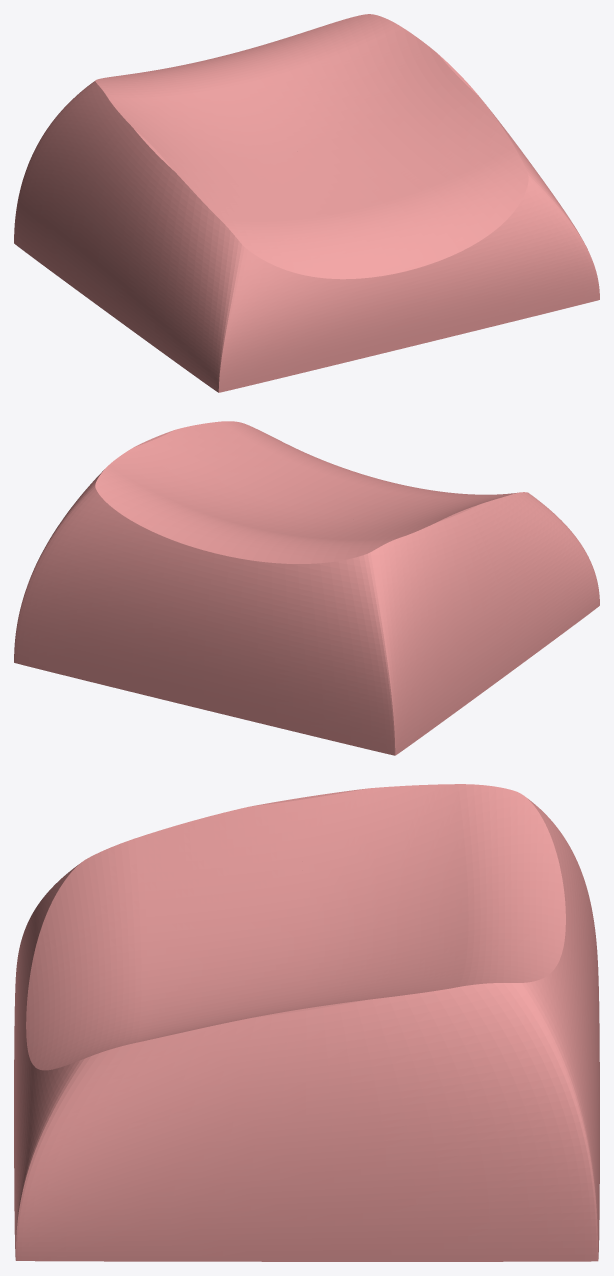
The model's file is MX-Chicago-Steno-R1.gltf.
The picture shows the model from 3 angles, top to bottom: view 1: azimuth 30°, elevation 25°; view 2: azimuth 150°, elevation 25°; view 3: azimuth 270°, elevation 25°; orthographic projection. The views are drawn at different scales.
Parts seen in each view (by area): view 1: object 1; view 2: object 1; view 3: object 1.
Part boxes in pixels (left/top/right/bottom): object 1: left=14, top=14, right=599, bottom=392; object 1: left=14, top=421, right=599, bottom=755; object 1: left=14, top=784, right=599, bottom=1261.
Size of the model in its own units: 1.73 by 0.851 by 1.61.
